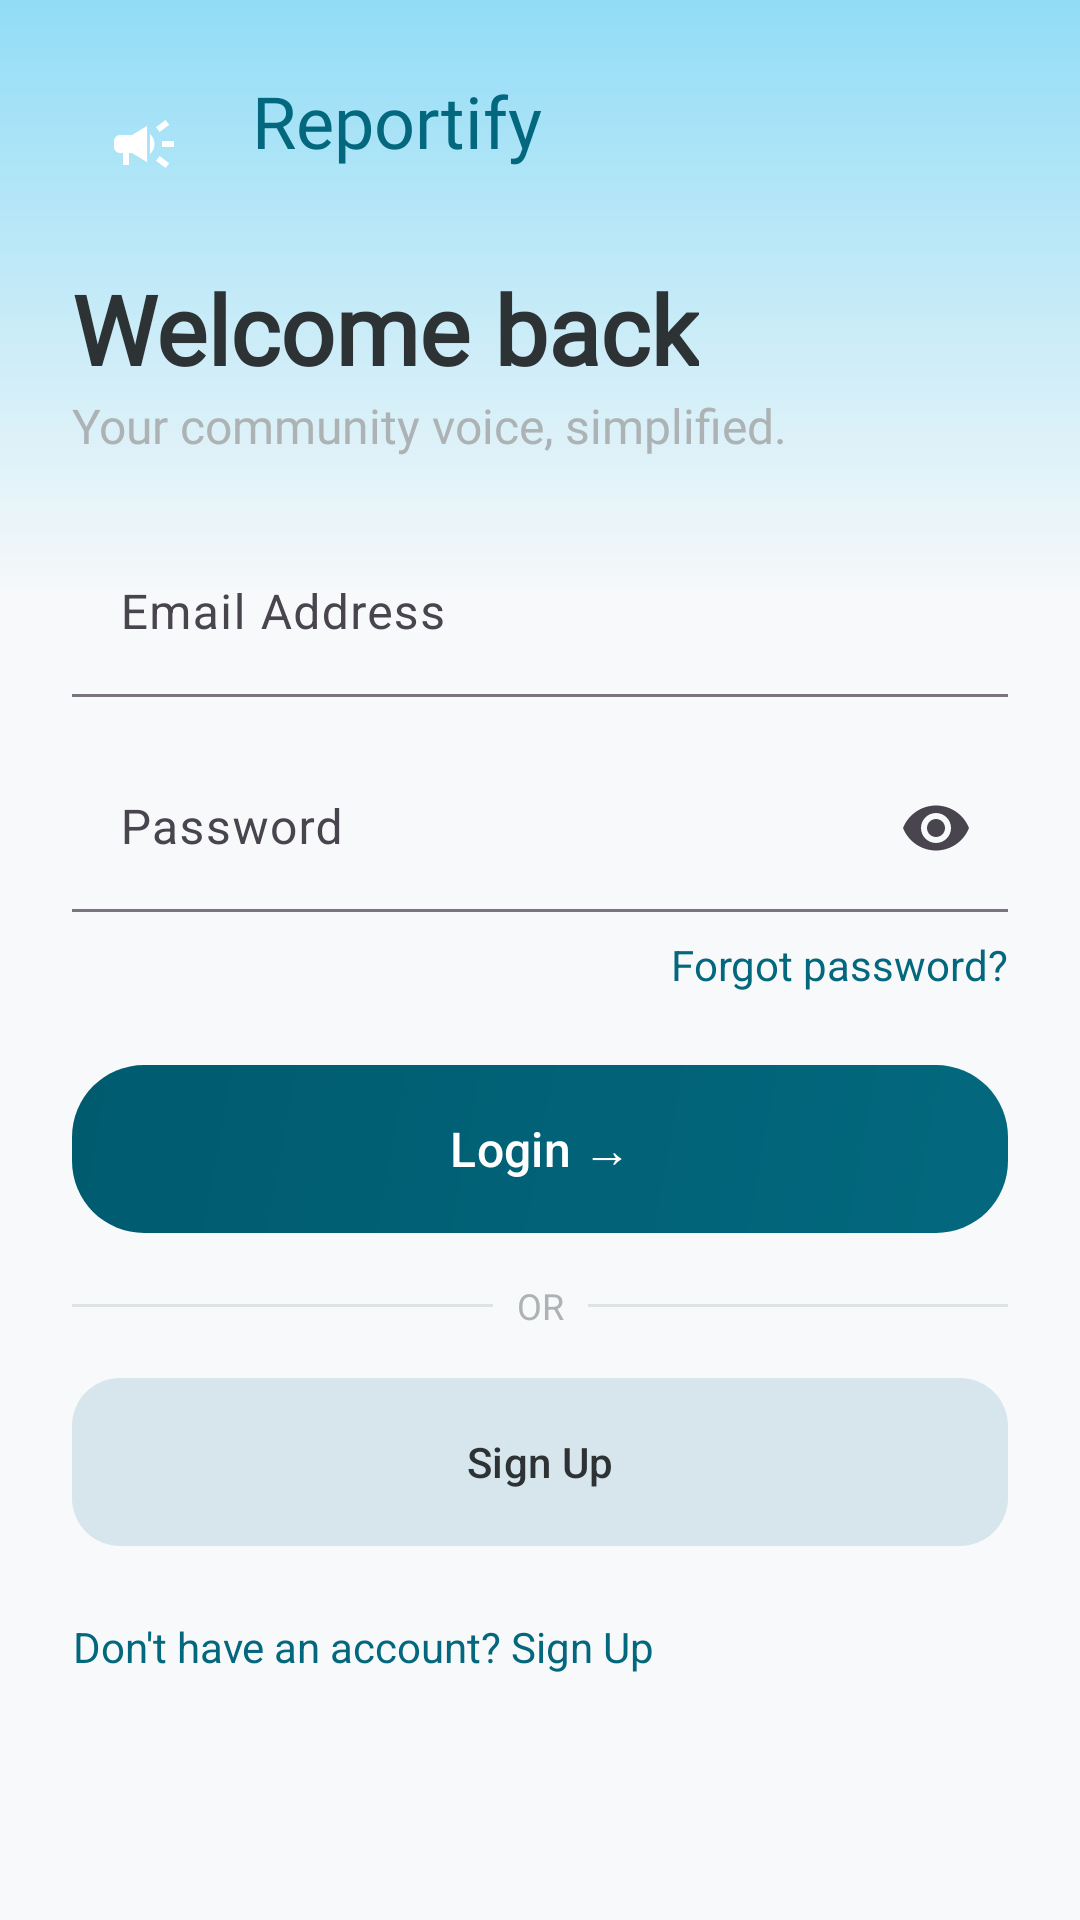

Icons on this 1080 x 1920 Android screen, each with the point to tap as (x,y):
campaign: (144,144)
